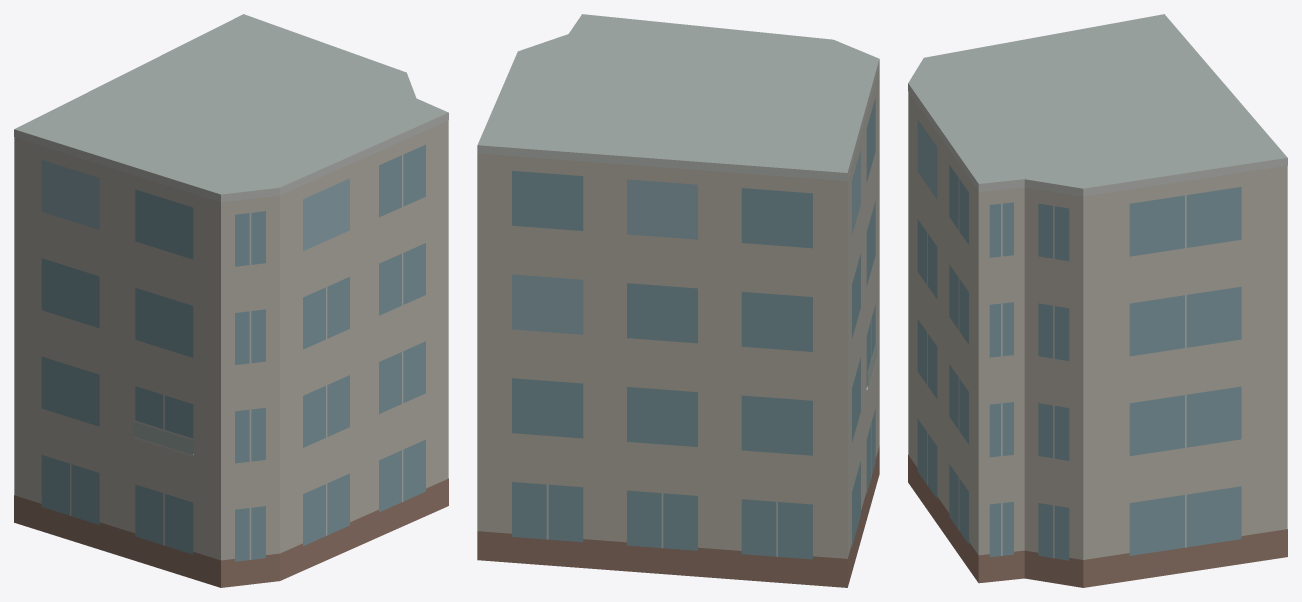
Rendered from survey-upis-32943213.glb.
The picture shows the model from 3 angles, left to right: view 1: azimuth 30°, elevation 25°; view 2: azimuth 150°, elevation 25°; view 3: azimuth 270°, elevation 25°; orthographic projection. The views are drawn at different scales.
Visible parts, largest first — view 1: survey-upis-32943213.tmp; view 2: survey-upis-32943213.tmp; view 3: survey-upis-32943213.tmp.
Boxes of the visible parts, box(x1,y1,x2,y2) form: survey-upis-32943213.tmp: box(14, 14, 448, 587); survey-upis-32943213.tmp: box(477, 14, 879, 587); survey-upis-32943213.tmp: box(908, 14, 1287, 587).
Size of the model in its own units: 11.55 by 12.3 by 10.61.
